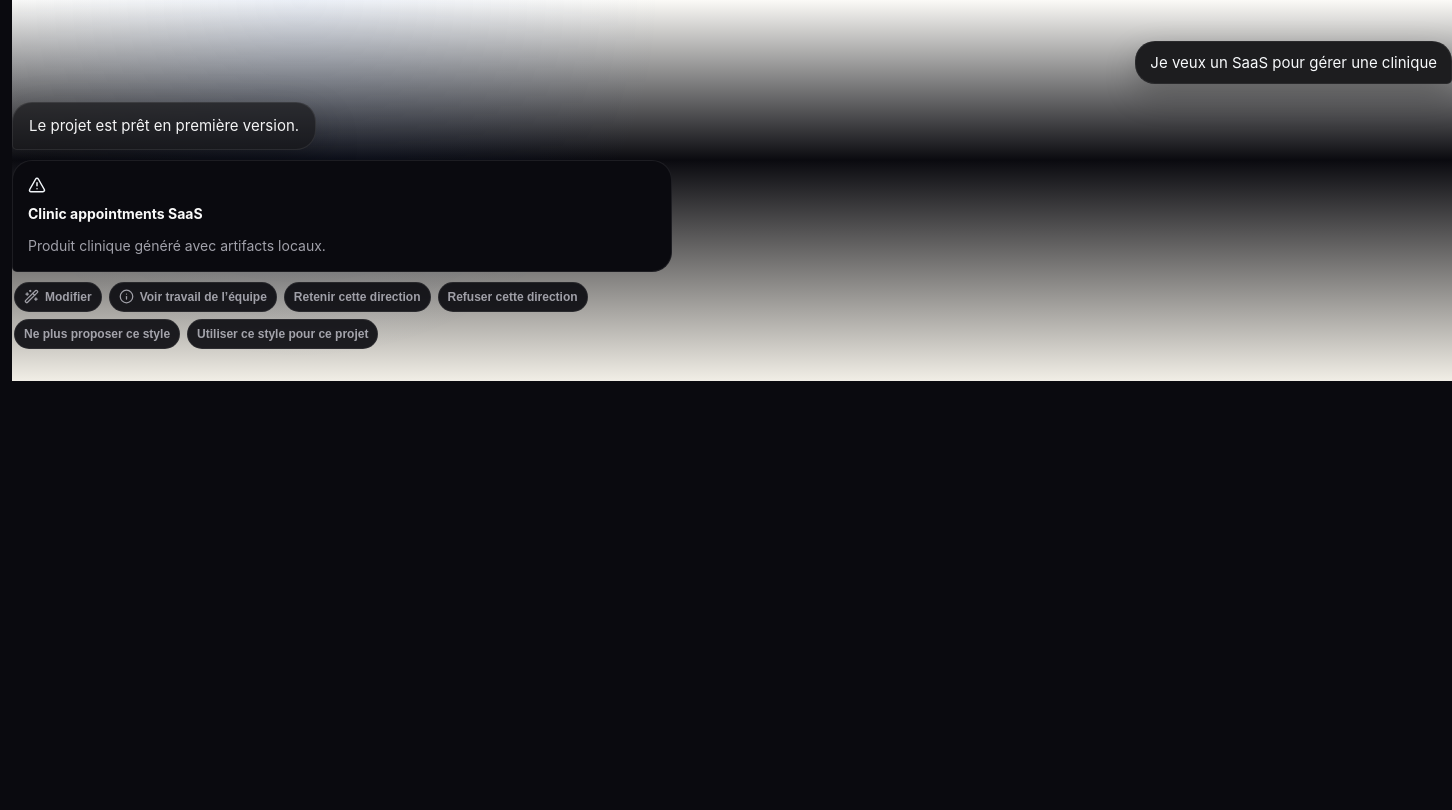
CEO command components › renders a final-answer-first result with details hidden by default
Expected: the text "Le projet est prêt en première version." is shown, [12,102,316,150]
Expected: the text "Clinic appointments SaaS" is shown, [28,205,203,222]
Step 1. Click the button "Voir travail de l’équipe" → [193, 297], box [109,282,277,312]
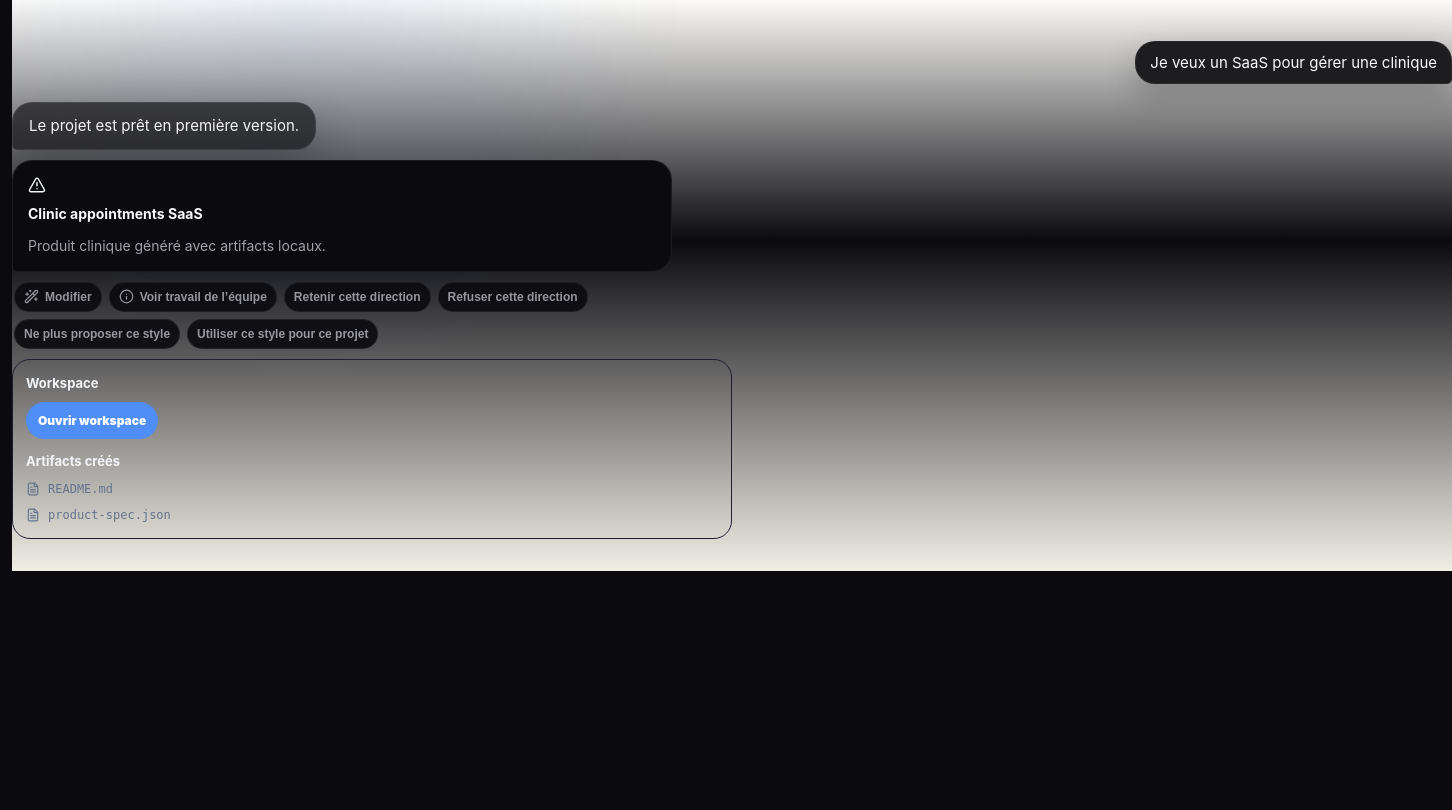
Now the text "README.md" is shown, box [48,480,113,499]
Now the text "product-spec.json" is shown, box [48,506,171,525]
